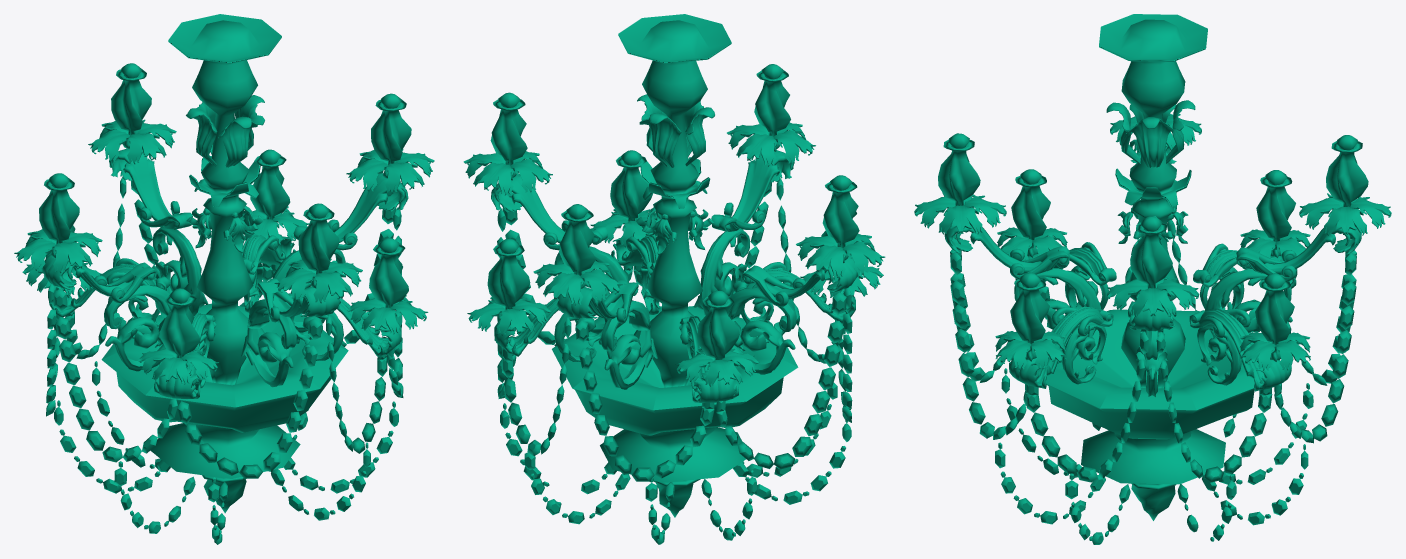
File: victorian_chandelier_optimized.fbx
The picture shows the model from 3 angles, left to right: view 1: azimuth 30°, elevation 25°; view 2: azimuth 150°, elevation 25°; view 3: azimuth 270°, elevation 25°; orthographic projection.
Visible parts, largest first — view 1: VictorianChandelier_Combined; view 2: VictorianChandelier_Combined; view 3: VictorianChandelier_Combined.
Boxes of the visible parts, box(x1,y1,x2,y2) form: VictorianChandelier_Combined: box(14, 14, 434, 544); VictorianChandelier_Combined: box(463, 14, 885, 544); VictorianChandelier_Combined: box(914, 14, 1391, 544).
Size of the model in its own units: 476 by 535 by 470.
